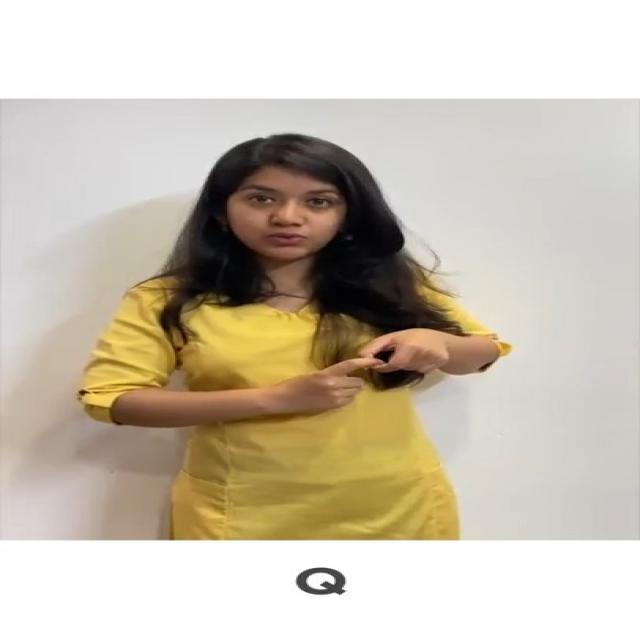2: (328, 478, 328, 489)
Q: (247, 324, 488, 418)
